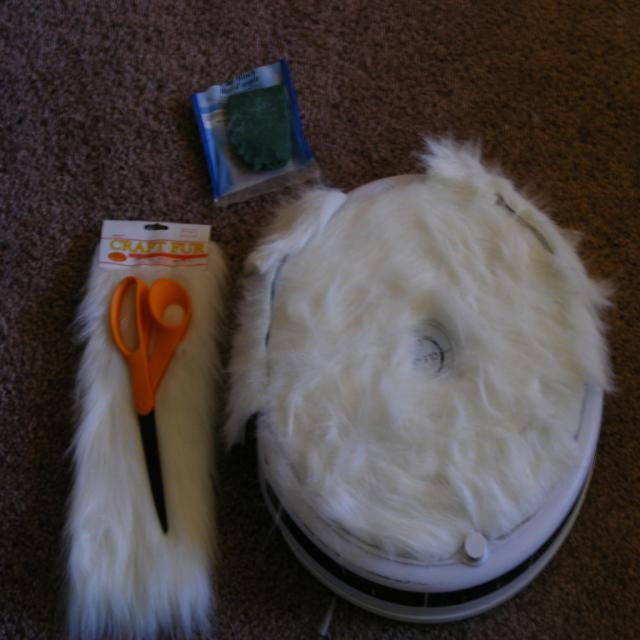scissors: (109, 274, 191, 533)
